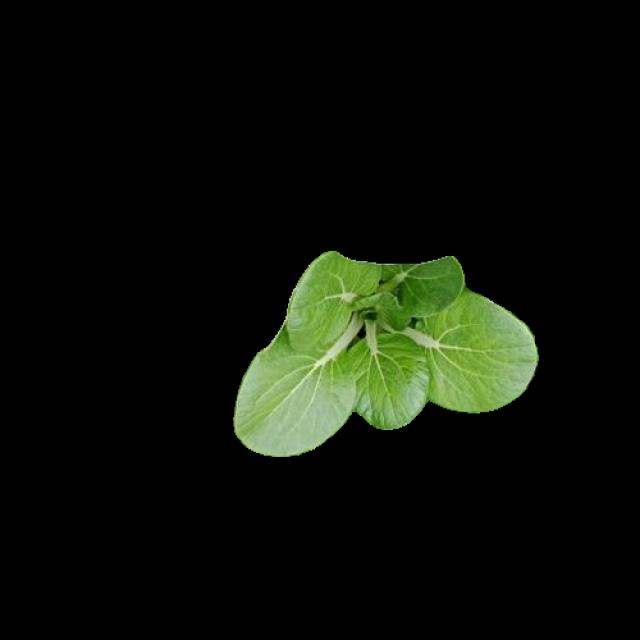healthy: (234, 248, 538, 451)
not-mature: (237, 251, 540, 453)
